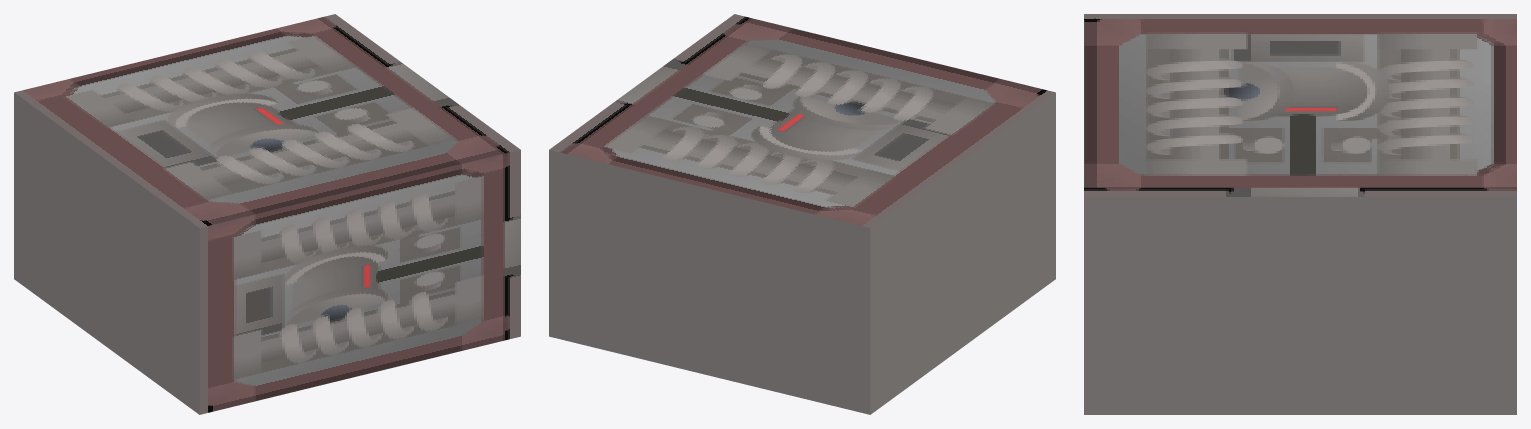
Rendered from Building_StandardRecharger.glb.
3 views of the same model, side by side, from view 1: azimuth 30°, elevation 25°; view 2: azimuth 150°, elevation 25°; view 3: azimuth 270°, elevation 25° (orthographic). The views are drawn at different scales.
Visible parts, largest first — view 1: StandardRecharger; view 2: StandardRecharger; view 3: StandardRecharger.
Boxes of the visible parts, x1,y1,x2,y2 form: StandardRecharger: (14, 14, 520, 414); StandardRecharger: (549, 14, 1055, 414); StandardRecharger: (1084, 14, 1516, 414).
Bounding box in the file's own units: 1.8 × 1 × 1.8.
1 material, 1 textured.
